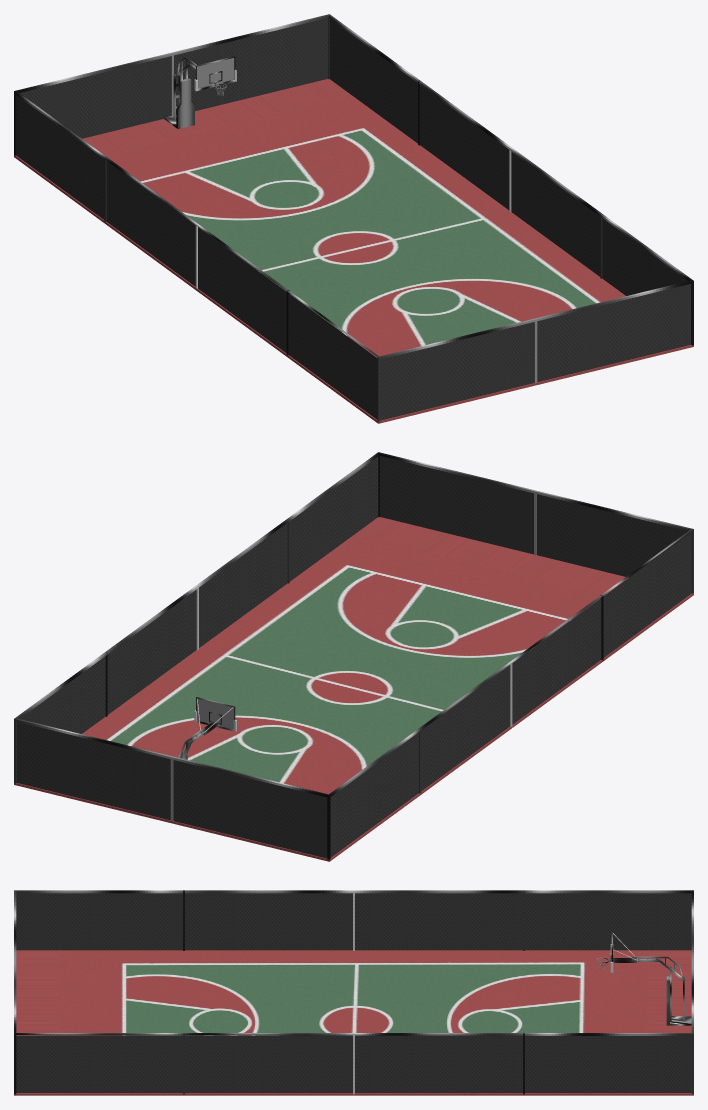
The model's file is Basketball court.FBX.
3 views of the same model, one above another, from view 1: azimuth 30°, elevation 25°; view 2: azimuth 150°, elevation 25°; view 3: azimuth 270°, elevation 25° (orthographic). The views are drawn at different scales.
Visible parts, largest first — view 1: Group007, Plane003, Box186, Box180, Group003; view 2: Group007, Plane003, Box186, Group003; view 3: Group007, Plane003, Box186, Box183, Box180.
Boxes of the visible parts, x1,y1,x2,y2 form: Group007: (16,18,691,420); Plane003: (14,79,693,423); Box186: (14,14,693,422); Box180: (164,78,194,128); Group003: (197,58,234,88); Group007: (16,456,691,858); Plane003: (14,517,693,861); Box186: (14,452,693,861); Group003: (196,698,233,728); Group007: (16,893,691,1092); Plane003: (14,950,693,1095); Box186: (14,890,693,1095); Box183: (608,956,685,1021); Box180: (666,976,691,1025).
Size of the model in its own units: 15000 by 4061 by 30000.
